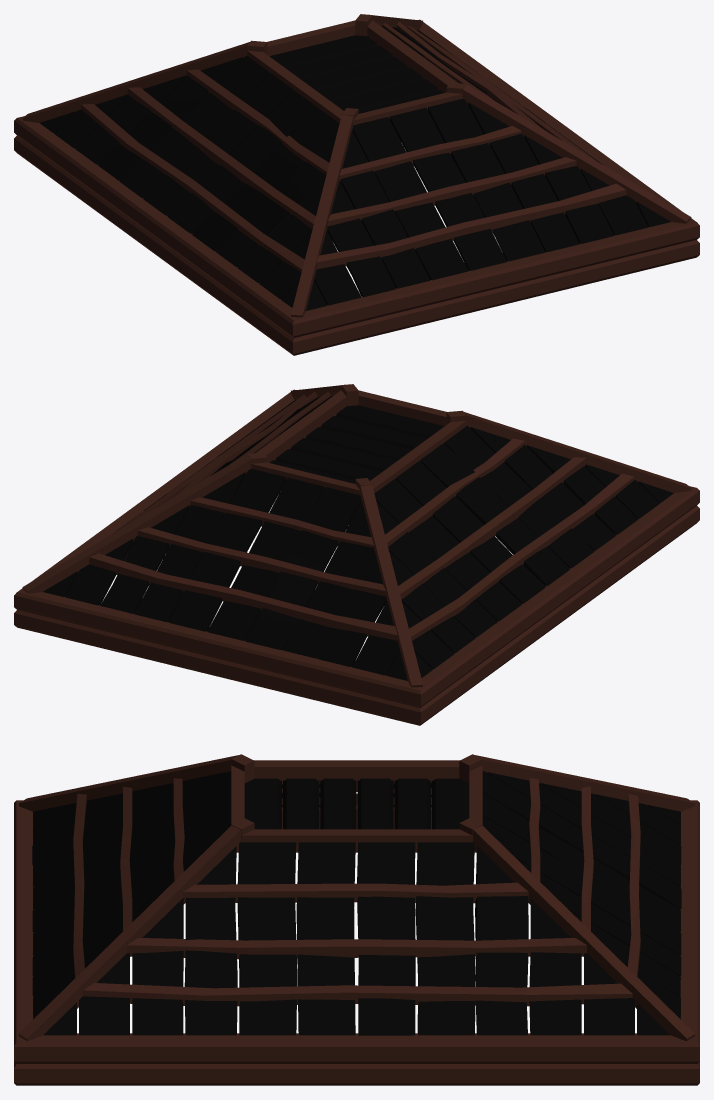
Rendered from standard_wooden_roof_1.FBX.
3 renders of one model, top to bottom at view 1: azimuth 30°, elevation 25°; view 2: azimuth 150°, elevation 25°; view 3: azimuth 270°, elevation 25°, orthographic. The views are drawn at different scales.
Parts seen in each view (by area): view 1: standard_wooden_roof_1; view 2: standard_wooden_roof_1; view 3: standard_wooden_roof_1.
Boxes of the visible parts, x1,y1,x2,y2 form: standard_wooden_roof_1: [14, 14, 699, 355]; standard_wooden_roof_1: [14, 384, 699, 725]; standard_wooden_roof_1: [14, 754, 699, 1085].
Bounding box in the file's own units: 606 × 200 × 719.
